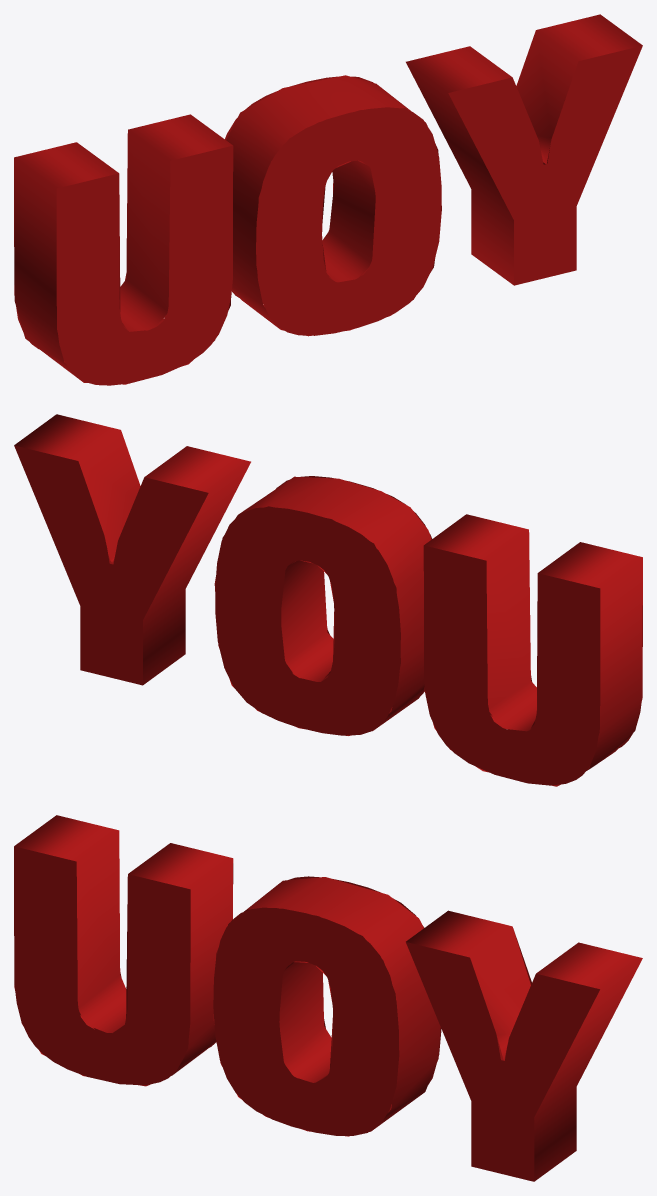
File: you.fbx
The picture shows the model from 3 angles, top to bottom: view 1: azimuth 30°, elevation 25°; view 2: azimuth 150°, elevation 25°; view 3: azimuth 330°, elevation 25°; orthographic projection.
Parts seen in each view (by area): view 1: Text; view 2: Text; view 3: Text.
Boxes of the visible parts, <box> form: Text: <box>14,14,642,385</box>; Text: <box>14,414,642,786</box>; Text: <box>14,815,642,1181</box>.
Size of the model in its own units: 6.36 by 2.26 by 0.8.
